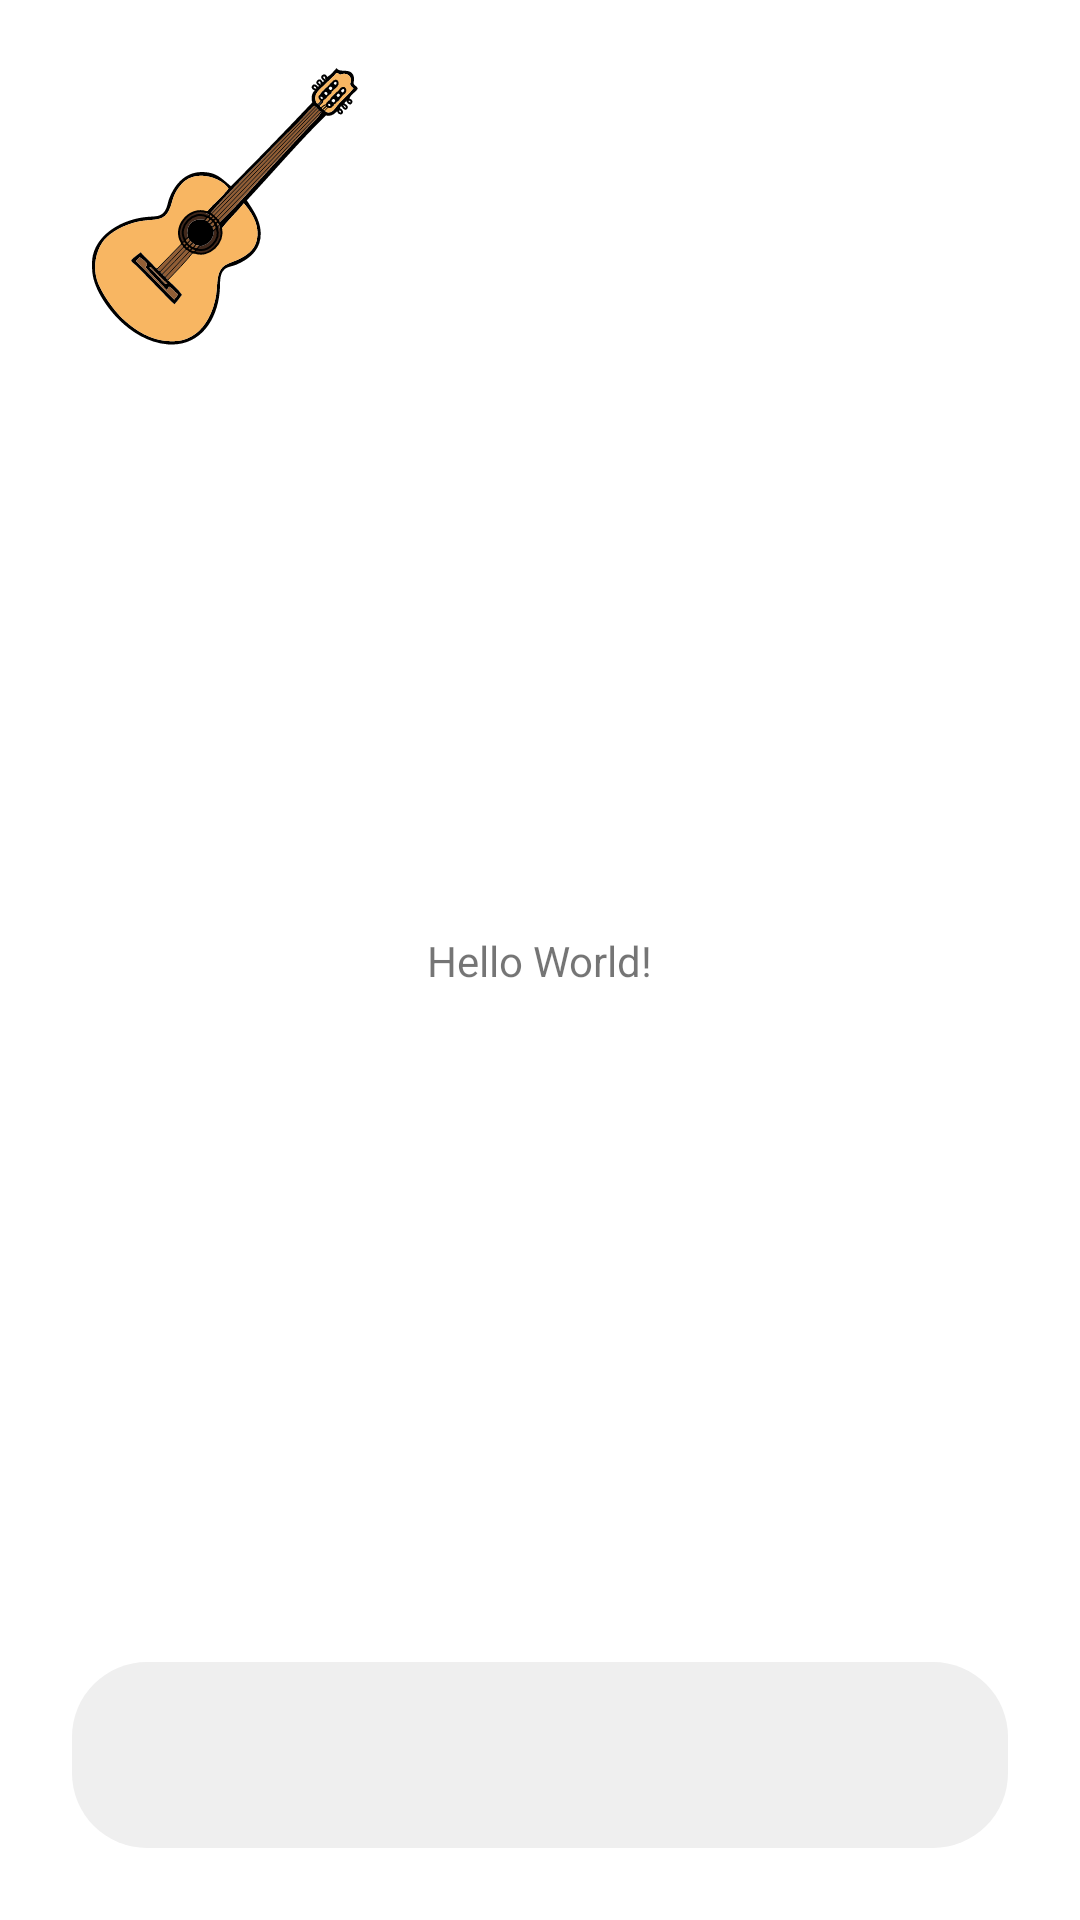

Icons on this 1080w x 1920h Android screen, each with the point to tap as (x,y):
guitarra: (225,206)
